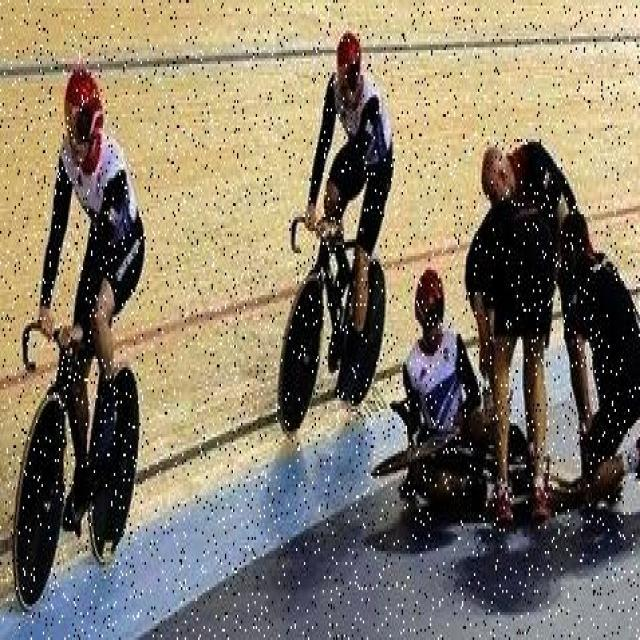fall: (398, 272, 537, 492)
